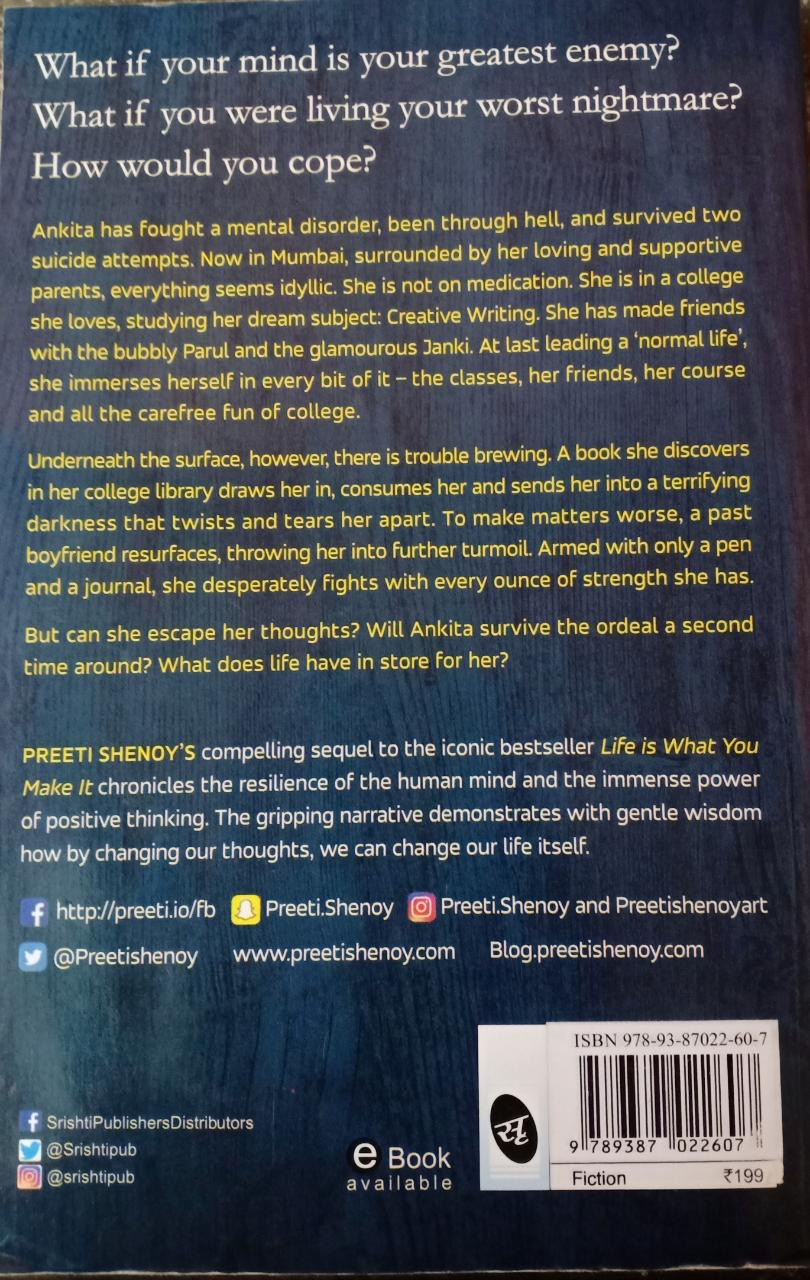barcode: (550, 1023, 773, 1160)
